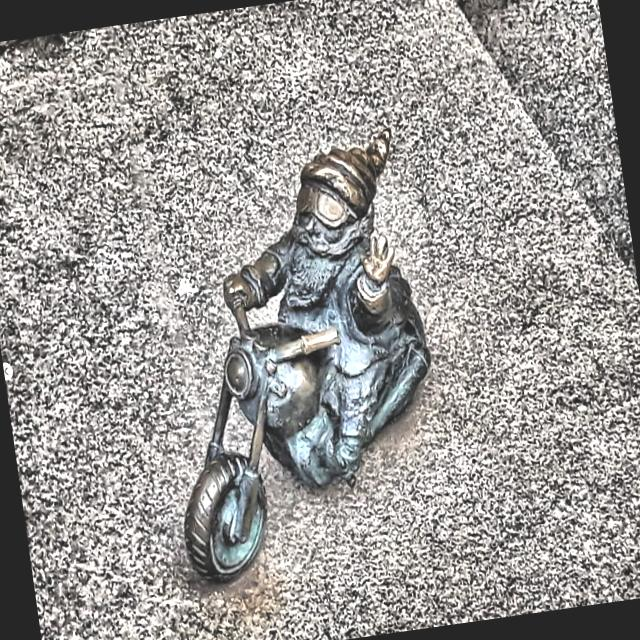Wentyl: (184, 129, 430, 581)
